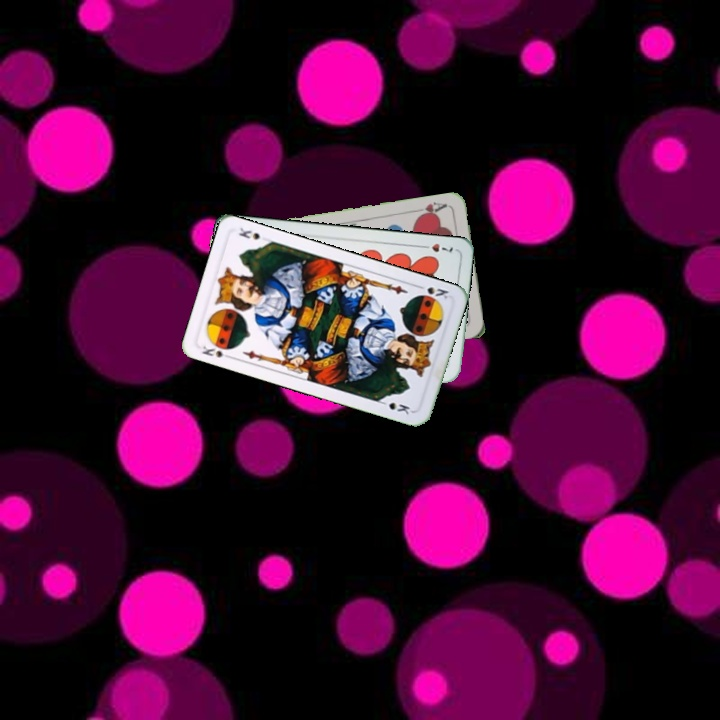H7: (417, 239, 455, 256)
HA: (410, 198, 450, 220)
SK: (412, 281, 451, 304), (198, 342, 235, 360)
